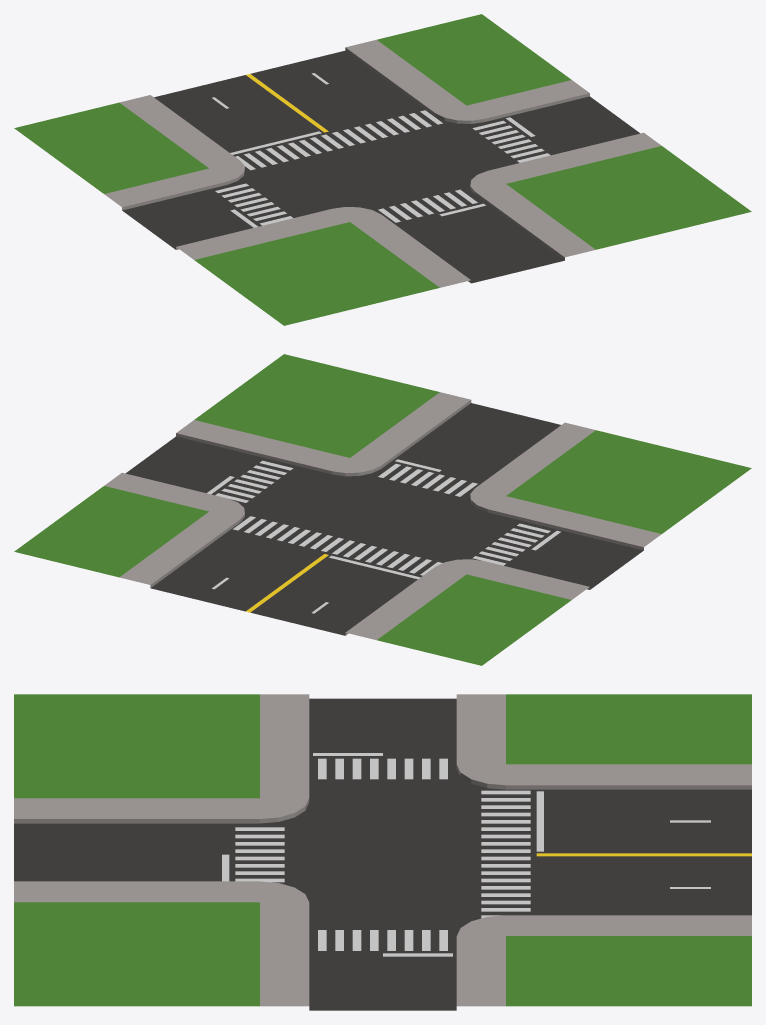
Rendered from tiles-nb_tile-roads-mainroad-intersection-nb.fbx.
3 renders of one model, top to bottom at view 1: azimuth 30°, elevation 25°; view 2: azimuth 150°, elevation 25°; view 3: azimuth 270°, elevation 25°, orthographic. The views are drawn at different scales.
Visible parts, largest first — view 1: tiles_nb_tile_roads_mainroad_intersection_nb; view 2: tiles_nb_tile_roads_mainroad_intersection_nb; view 3: tiles_nb_tile_roads_mainroad_intersection_nb.
Part boxes in pixels (x1=…): tiles_nb_tile_roads_mainroad_intersection_nb: x1=14, y1=14, x2=751, y2=325; tiles_nb_tile_roads_mainroad_intersection_nb: x1=14, y1=354, x2=751, y2=665; tiles_nb_tile_roads_mainroad_intersection_nb: x1=14, y1=694, x2=751, y2=1010.
Size of the model in its own units: 200 by 1.33 by 200.
